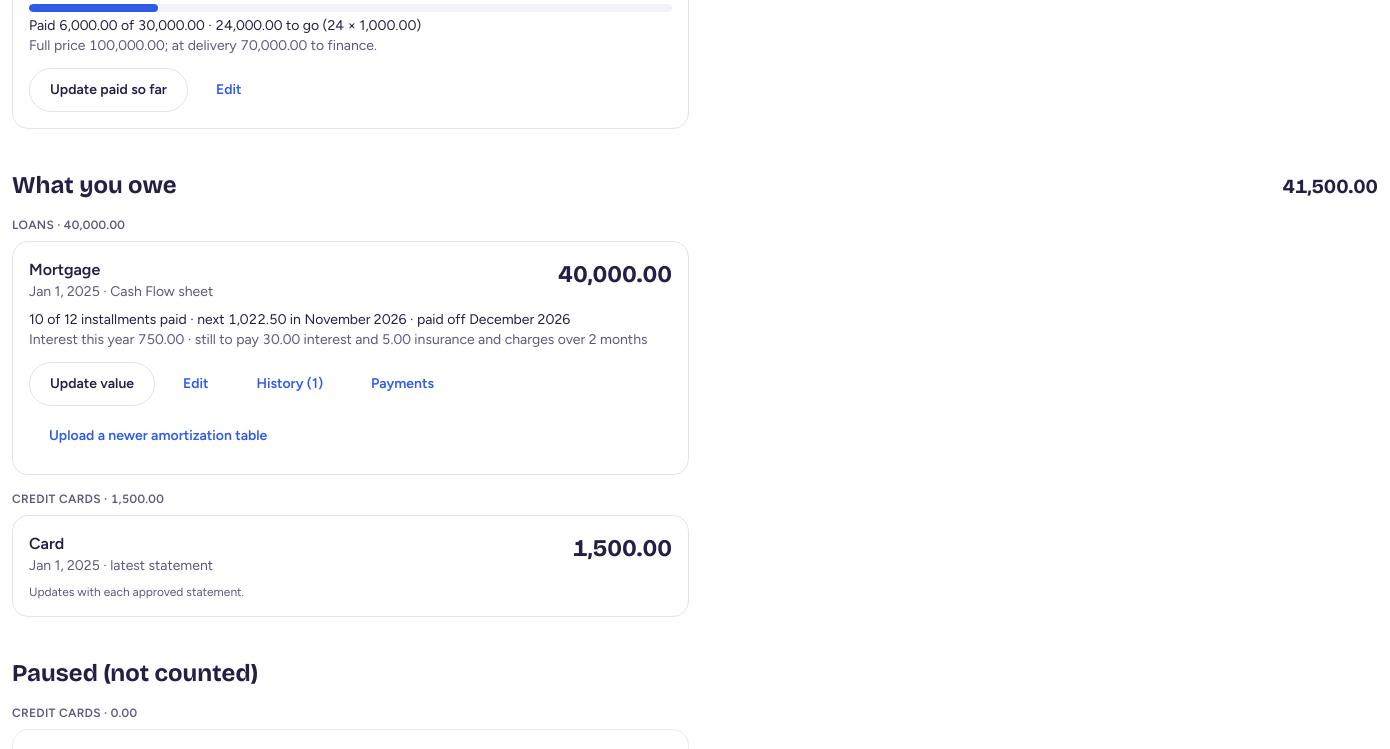
it: loan amortization table › summarizes the schedule and checks payments against the bank
(page scrolled)
Expected: the text "installments paid" shows "10 of 12 installments paid · next 1,022.50 in November 2026 · paid off December 2026", [29,311,570,328]
Expected: the text "Interest this year" shows "Interest this year 750.00 · still to pay 30.00 interest and 5.00 insurance and charges over 2 months", [29,330,672,350]
Click the button "Payments".
click(403, 384)  # box [351,362,454,406]
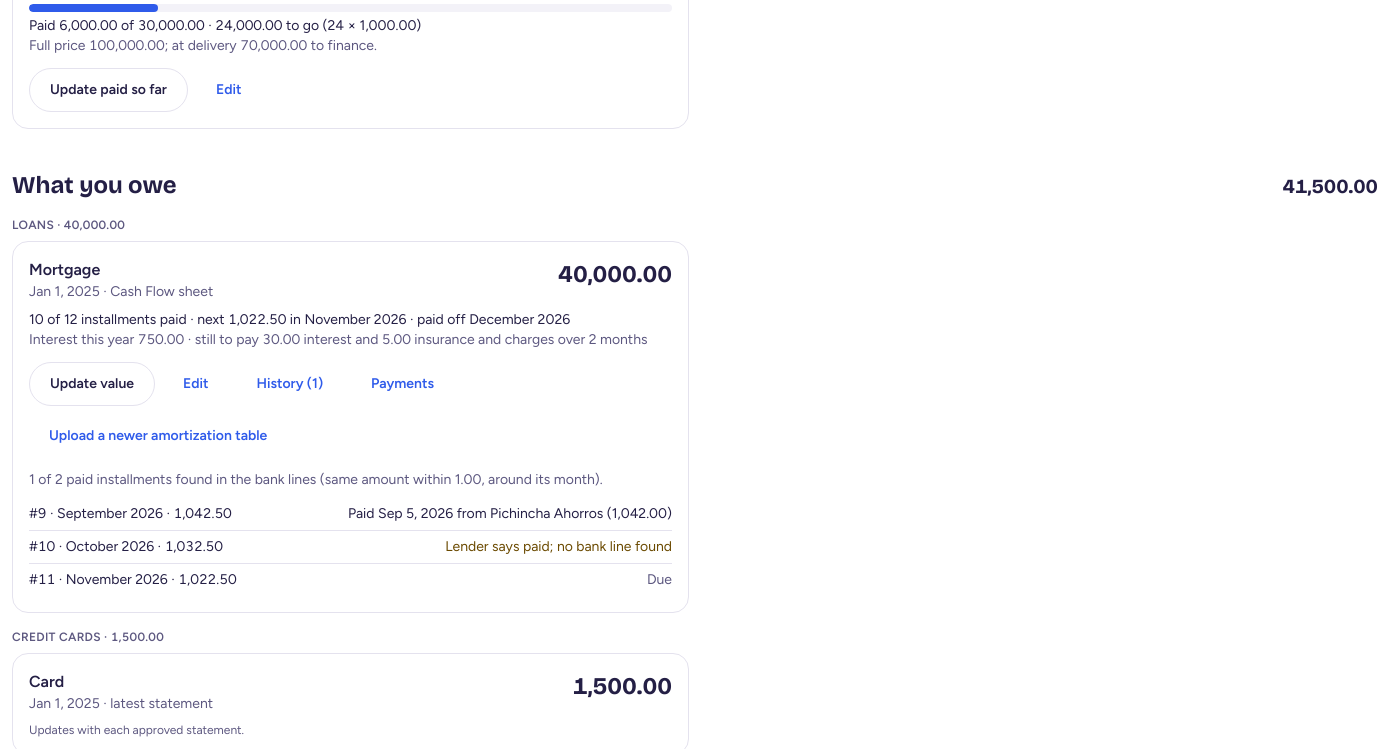
Expected: the text "of 2 paid installments found" shows "1 of 2", [29,470,672,490]
Expected: the list item that starts with "October 2026" shows "Lender says paid; no bank line found", [445,538,672,555]
Expected: the list item "#11 · November 2026 · 1,022.50 Due" is shown, [29,571,672,588]
